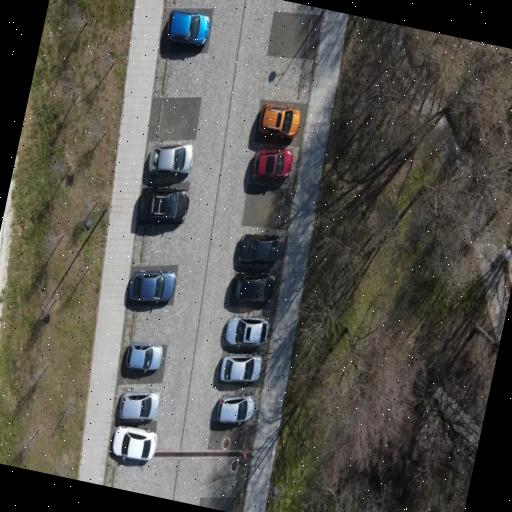car: (136, 187, 188, 225), (230, 273, 274, 307), (112, 425, 156, 459), (167, 10, 209, 45), (148, 143, 193, 175), (258, 103, 300, 136), (129, 270, 175, 300), (238, 234, 281, 265), (225, 315, 268, 344), (119, 389, 159, 420), (219, 353, 261, 382), (252, 148, 292, 178), (126, 341, 162, 370), (217, 394, 254, 422)
